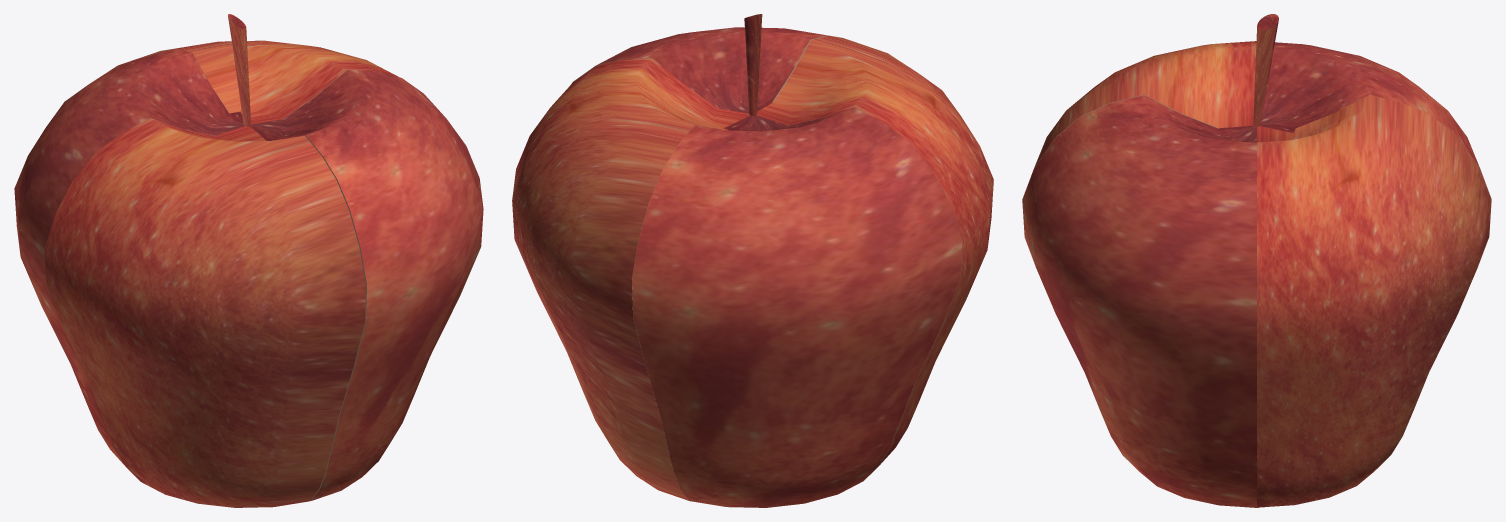
The model's file is AppleSlice (1).fbx.
3 views of the same model, side by side, from view 1: azimuth 30°, elevation 25°; view 2: azimuth 150°, elevation 25°; view 3: azimuth 270°, elevation 25° (orthographic). The views are drawn at different scales.
Parts seen in each view (by area): view 1: polySurface12, polySurface9, polySurface10, polySurface11; view 2: polySurface10, polySurface11, polySurface12, polySurface9; view 3: polySurface11, polySurface9, polySurface12, polySurface10.
Part boxes in pixels (box(x1,y1,x2,y2)): polySurface12: box(44, 118, 365, 507); polySurface9: box(250, 70, 483, 500); polySurface10: box(14, 48, 244, 464); polySurface11: box(176, 14, 398, 126); polySurface10: box(632, 107, 962, 507); polySurface11: box(512, 14, 762, 500); polySurface12: box(756, 35, 993, 481); polySurface9: box(571, 27, 842, 113); polySurface11: box(1253, 14, 1491, 507); polySurface9: box(1022, 95, 1258, 507); polySurface12: box(1023, 41, 1256, 195); polySurface10: box(1260, 42, 1491, 234).
Size of the model in its own units: 1.9 by 1.97 by 1.89.
